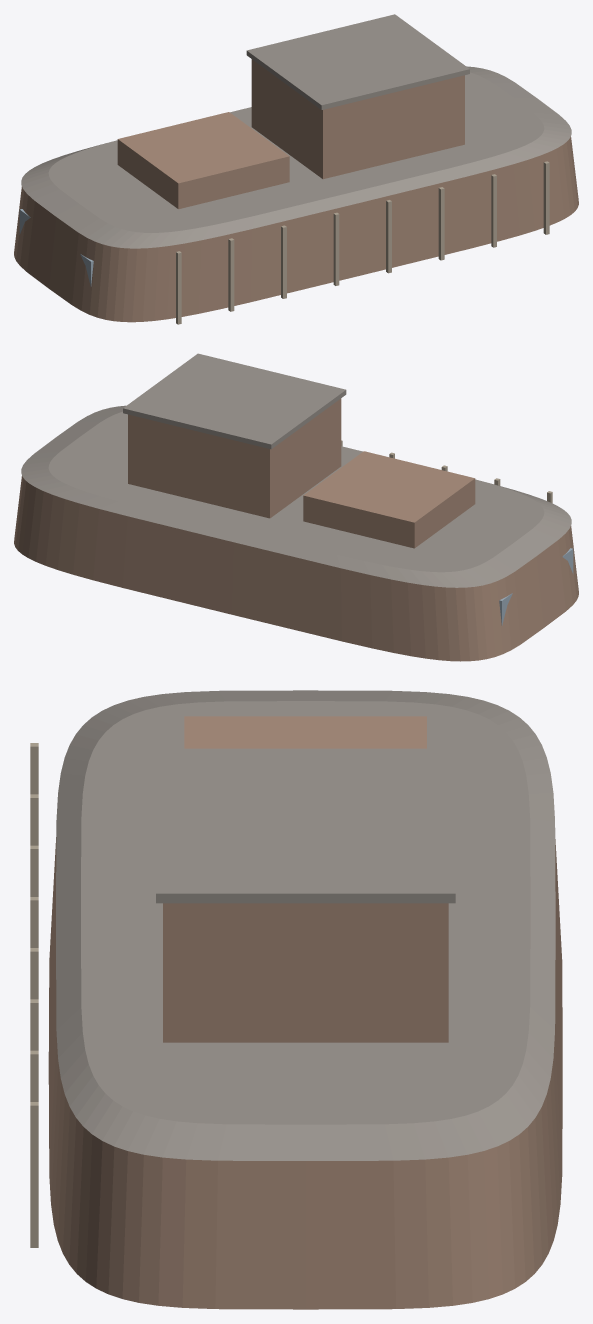
File: euskalduna.glb
3 views of the same model, one above another, from view 1: azimuth 30°, elevation 25°; view 2: azimuth 150°, elevation 25°; view 3: azimuth 270°, elevation 25° (orthographic). The views are drawn at different scales.
Size of the model in its own units: 160 by 47.5 by 74.6.
